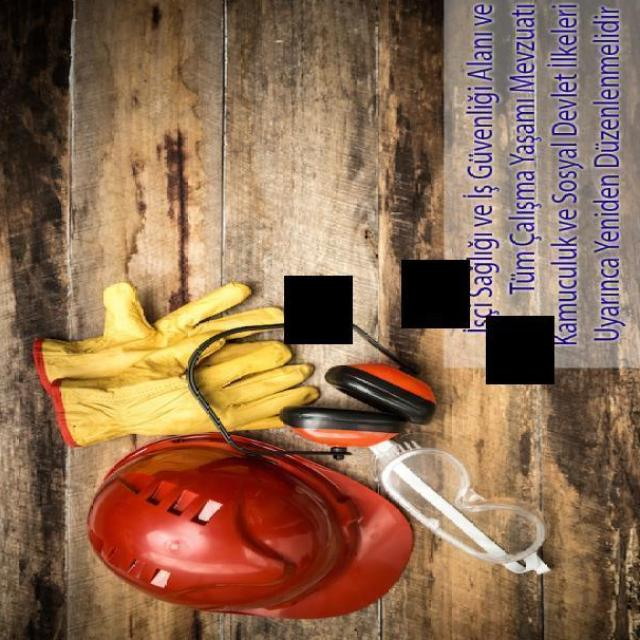helmet: (86, 430, 415, 620)
